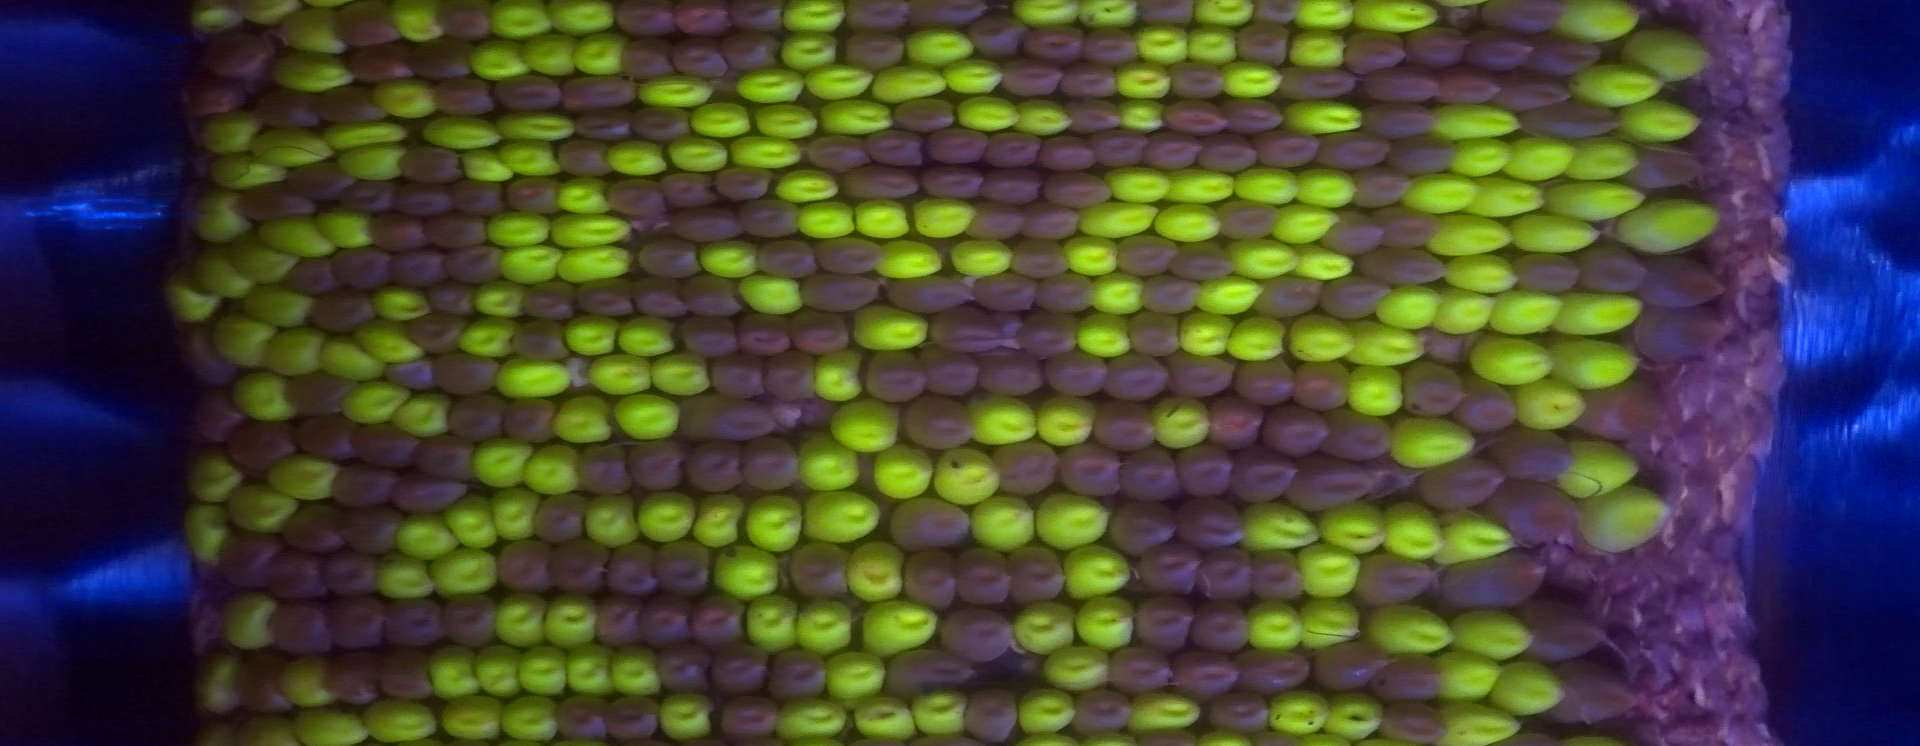fluorescent: (1576, 481, 1667, 550), (1621, 196, 1720, 250), (1438, 507, 1513, 571), (1561, 437, 1640, 499), (1540, 342, 1641, 390), (1622, 32, 1709, 82), (1468, 333, 1555, 383), (864, 597, 937, 657), (1550, 287, 1640, 334), (793, 428, 858, 492), (1368, 604, 1453, 653), (1389, 416, 1474, 464), (933, 447, 1000, 506), (1548, 181, 1644, 222), (965, 392, 1033, 448), (1566, 64, 1662, 104), (850, 301, 928, 349), (1343, 320, 1425, 365), (493, 352, 577, 396), (842, 540, 907, 597), (264, 323, 336, 375), (1453, 612, 1532, 659), (268, 453, 342, 502), (1425, 212, 1511, 254), (1060, 545, 1131, 595), (806, 492, 878, 541), (746, 489, 802, 551), (1040, 497, 1109, 548), (1319, 500, 1385, 552), (1491, 663, 1562, 712), (872, 443, 934, 499), (1297, 544, 1360, 598), (1284, 312, 1351, 364), (1556, 2, 1640, 43), (436, 549, 502, 599), (1402, 170, 1477, 214), (1242, 502, 1314, 548), (1517, 216, 1600, 255), (584, 490, 640, 548), (231, 367, 298, 416), (1385, 503, 1444, 559), (827, 647, 887, 701), (1520, 379, 1582, 430), (971, 496, 1033, 548), (1013, 603, 1076, 653), (1500, 134, 1572, 178), (322, 327, 380, 382), (634, 492, 692, 548), (552, 245, 633, 284), (345, 380, 411, 428), (1428, 105, 1520, 140), (693, 488, 744, 549), (1374, 283, 1441, 330), (829, 405, 900, 450), (1125, 691, 1198, 734), (471, 437, 531, 489), (1490, 292, 1558, 337), (1036, 393, 1095, 445), (366, 699, 435, 744), (647, 350, 711, 397), (617, 392, 682, 439), (1223, 238, 1298, 278), (1442, 704, 1517, 745), (229, 486, 301, 528), (713, 551, 779, 597), (193, 249, 256, 296), (1436, 652, 1499, 699), (1620, 99, 1698, 137), (1075, 198, 1153, 236), (811, 345, 864, 401), (1152, 396, 1209, 448), (796, 603, 853, 654), (1227, 315, 1287, 364), (214, 318, 276, 366), (391, 388, 452, 436), (224, 594, 279, 647), (743, 597, 800, 648), (355, 320, 422, 363), (245, 134, 332, 167), (276, 55, 356, 91), (1566, 138, 1637, 179), (257, 220, 338, 256), (1269, 686, 1329, 734), (1464, 178, 1542, 214), (1182, 310, 1238, 360), (1435, 287, 1493, 336), (233, 241, 300, 283), (1247, 601, 1299, 654), (186, 447, 240, 499), (489, 486, 539, 541), (1081, 598, 1136, 648), (547, 401, 613, 442), (495, 594, 547, 646), (524, 442, 579, 491), (905, 26, 976, 64), (1284, 100, 1360, 136), (169, 269, 217, 326), (1447, 255, 1520, 292), (776, 701, 845, 739), (278, 12, 344, 51), (585, 355, 651, 394), (1346, 367, 1404, 412), (429, 648, 479, 699), (1302, 598, 1356, 646), (909, 692, 969, 735), (1162, 167, 1234, 202), (242, 288, 312, 325), (448, 492, 495, 548), (503, 696, 560, 741), (612, 315, 673, 356), (1048, 646, 1109, 687), (740, 274, 802, 315), (913, 194, 972, 236), (298, 708, 366, 745), (853, 696, 912, 739), (198, 191, 251, 239), (638, 76, 714, 109), (874, 240, 940, 278), (378, 551, 432, 598), (441, 696, 501, 737), (182, 508, 228, 563), (568, 643, 613, 698), (467, 39, 530, 78), (197, 113, 264, 149), (1160, 205, 1224, 243), (549, 593, 595, 646), (658, 695, 711, 740), (371, 78, 440, 114), (1327, 695, 1382, 739), (396, 516, 456, 556), (284, 655, 332, 706), (610, 137, 667, 179), (484, 209, 551, 245), (192, 654, 238, 707), (873, 71, 948, 103), (209, 156, 287, 186), (315, 205, 375, 244), (500, 244, 560, 283), (527, 32, 576, 80), (555, 176, 613, 216), (459, 318, 518, 358), (1298, 169, 1354, 209), (822, 100, 890, 134), (697, 240, 763, 274), (1080, 315, 1131, 359), (478, 646, 520, 698), (1085, 274, 1142, 314), (1116, 62, 1174, 100), (735, 134, 802, 167), (1104, 167, 1169, 201), (613, 648, 662, 693), (951, 240, 1014, 276), (689, 102, 749, 138), (1020, 693, 1073, 735), (1273, 206, 1337, 240), (422, 119, 498, 147), (1237, 169, 1297, 205), (793, 201, 853, 236), (567, 310, 616, 353), (1133, 24, 1188, 62), (387, 2, 446, 38), (1293, 245, 1352, 281), (495, 115, 576, 141), (1452, 140, 1509, 176), (737, 70, 804, 100), (669, 135, 729, 169), (522, 646, 566, 692), (553, 219, 629, 246), (492, 2, 550, 38), (1289, 32, 1344, 69), (774, 170, 840, 201), (1201, 279, 1262, 312), (1356, 2, 1434, 28), (337, 147, 405, 176), (471, 282, 525, 318), (373, 285, 429, 321), (757, 104, 816, 137), (958, 98, 1016, 131), (1223, 64, 1280, 98), (1065, 239, 1119, 274), (1010, 100, 1070, 132), (945, 59, 1003, 92), (782, 32, 835, 67), (806, 67, 872, 96), (460, 149, 517, 183), (860, 198, 909, 236), (782, 2, 842, 33), (503, 145, 563, 175), (576, 37, 624, 73), (1189, 24, 1236, 62), (551, 1, 613, 29), (1013, 1, 1075, 26), (1119, 99, 1164, 132), (326, 125, 402, 145), (1193, 1, 1251, 26), (1080, 1, 1138, 26), (1293, 2, 1351, 26), (190, 2, 238, 29), (242, 1, 295, 24)
nonfluorescent: (1439, 552, 1551, 608), (1633, 303, 1728, 364), (1553, 661, 1643, 725), (1578, 381, 1668, 440), (1289, 454, 1376, 512), (1502, 481, 1575, 549), (884, 497, 977, 549), (1524, 605, 1614, 658), (883, 650, 975, 698), (680, 394, 779, 439), (1354, 550, 1439, 601), (1493, 429, 1573, 480), (1130, 594, 1196, 657), (1420, 459, 1502, 510), (939, 608, 1013, 663), (1642, 256, 1728, 303), (1532, 29, 1604, 85), (1007, 543, 1068, 608), (233, 652, 294, 717), (1109, 500, 1179, 555), (1314, 641, 1389, 692), (1234, 648, 1316, 695), (993, 442, 1060, 499), (1631, 143, 1704, 195), (904, 396, 977, 447), (272, 593, 329, 658), (1520, 100, 1618, 138), (1360, 64, 1442, 109), (1578, 244, 1651, 295), (202, 29, 276, 80), (549, 538, 612, 595), (928, 311, 1009, 356), (1089, 399, 1160, 451), (913, 345, 981, 399), (1228, 450, 1296, 503), (244, 82, 317, 131), (347, 420, 416, 472), (1133, 544, 1198, 599), (1464, 23, 1532, 76), (316, 594, 384, 646), (213, 532, 279, 584), (1403, 21, 1471, 72), (838, 160, 923, 201), (883, 277, 977, 314), (964, 11, 1032, 61), (329, 1, 402, 48), (378, 598, 442, 650), (1329, 410, 1393, 462), (618, 34, 684, 85), (1245, 548, 1304, 604), (1249, 276, 1326, 318), (743, 439, 804, 492), (1059, 445, 1120, 499), (954, 548, 1008, 609), (1179, 500, 1248, 548), (433, 350, 503, 397), (1101, 355, 1171, 402), (686, 439, 743, 495), (789, 540, 849, 594), (1196, 548, 1256, 601), (1456, 381, 1517, 434), (1376, 701, 1447, 746), (289, 413, 356, 461), (311, 86, 388, 127), (228, 419, 290, 470), (1207, 398, 1270, 450), (649, 644, 713, 695), (1375, 650, 1439, 701), (1360, 251, 1450, 287), (404, 40, 474, 86), (796, 274, 879, 312), (763, 647, 823, 699), (864, 353, 926, 404), (1168, 354, 1236, 401), (287, 372, 358, 416), (1340, 23, 1403, 72), (1111, 646, 1174, 695), (1276, 64, 1360, 100), (1289, 356, 1346, 412), (577, 439, 632, 495), (381, 646, 436, 702), (976, 353, 1041, 401), (904, 551, 956, 610), (1498, 72, 1576, 111), (179, 326, 233, 382), (632, 439, 686, 495), (324, 648, 381, 702), (438, 592, 496, 644), (1120, 451, 1180, 501), (1189, 604, 1249, 654), (1069, 685, 1130, 734), (1229, 17, 1296, 62), (396, 142, 465, 185), (658, 541, 711, 597), (552, 693, 609, 746), (1172, 448, 1231, 499), (1322, 209, 1382, 258), (339, 506, 399, 555), (713, 647, 773, 696), (1174, 655, 1243, 698), (686, 595, 747, 643), (1316, 278, 1389, 318), (493, 71, 563, 113), (791, 309, 853, 355), (269, 551, 324, 604), (495, 541, 550, 594), (1378, 206, 1441, 251), (1364, 103, 1440, 141), (362, 209, 431, 251), (312, 290, 381, 332), (639, 598, 693, 650), (1513, 251, 1580, 294), (1040, 352, 1106, 394), (536, 491, 593, 541), (1315, 131, 1391, 168), (394, 478, 468, 516), (1163, 99, 1234, 138), (1251, 131, 1322, 170), (1019, 314, 1084, 356), (1142, 127, 1204, 173), (1404, 365, 1457, 418), (902, 1, 983, 36), (1029, 134, 1097, 174), (191, 393, 246, 443), (283, 503, 339, 552), (923, 160, 986, 205), (740, 198, 802, 243), (816, 234, 882, 276), (1236, 358, 1294, 404), (714, 702, 784, 741), (1485, 1, 1559, 38), (564, 71, 638, 108), (572, 273, 633, 317), (842, 33, 913, 71), (602, 695, 659, 742), (666, 208, 744, 243), (722, 29, 785, 72), (1390, 136, 1456, 176), (628, 273, 687, 318), (1044, 173, 1117, 209), (1060, 62, 1124, 104), (1116, 234, 1179, 276), (682, 277, 746, 318), (965, 688, 1016, 740), (709, 354, 764, 402), (238, 184, 313, 218), (1217, 198, 1280, 240), (609, 544, 658, 597), (670, 39, 733, 80), (997, 58, 1060, 98), (332, 247, 396, 288), (738, 314, 798, 356), (1202, 695, 1270, 733), (1031, 272, 1092, 314), (1025, 22, 1082, 66), (448, 396, 506, 440), (1138, 274, 1200, 315), (680, 314, 738, 356), (1269, 408, 1327, 451), (503, 396, 556, 443), (1018, 205, 1084, 243), (1089, 127, 1149, 169), (756, 236, 816, 278), (516, 321, 576, 363), (290, 162, 354, 201), (331, 465, 396, 503), (964, 203, 1026, 243), (975, 272, 1033, 314), (178, 80, 249, 114), (894, 97, 962, 132), (340, 45, 407, 82), (922, 130, 988, 167), (443, 245, 503, 285), (613, 1, 677, 39), (414, 443, 478, 481), (315, 556, 378, 594), (595, 597, 644, 646), (555, 138, 610, 181), (839, 1, 907, 36), (451, 179, 511, 218), (711, 164, 771, 203), (429, 212, 489, 251), (1201, 134, 1258, 175), (1438, 72, 1501, 109), (982, 131, 1041, 170), (1353, 167, 1408, 208), (1166, 60, 1226, 98), (1131, 314, 1182, 359), (435, 1, 492, 40), (671, 1, 729, 40), (1176, 243, 1234, 281), (645, 240, 704, 278), (411, 314, 467, 354), (765, 356, 814, 402), (864, 129, 921, 168), (1013, 243, 1069, 282), (602, 178, 662, 214), (1222, 98, 1288, 131), (804, 137, 868, 171), (1063, 97, 1124, 132), (1080, 32, 1139, 69), (280, 257, 337, 295), (724, 1, 787, 34), (433, 77, 495, 111), (661, 171, 711, 213), (504, 178, 561, 214), (982, 171, 1047, 203), (572, 109, 633, 142), (524, 281, 576, 320), (632, 107, 691, 140), (394, 181, 451, 216), (424, 281, 480, 315), (396, 250, 447, 284), (1133, 1, 1195, 29), (349, 179, 398, 213), (1248, 1, 1299, 26)
